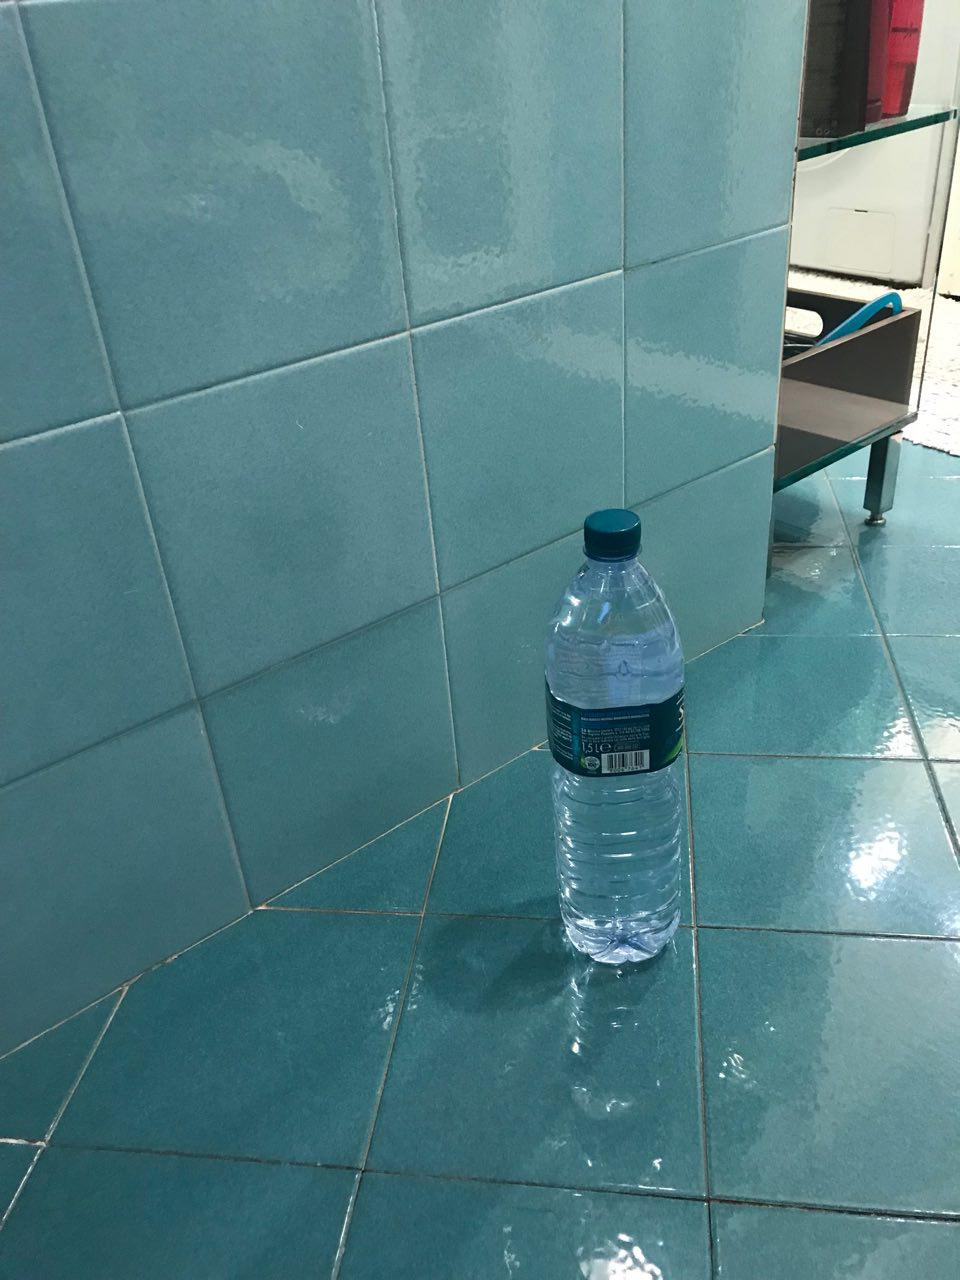san_bernardo: (543, 507, 686, 965)
